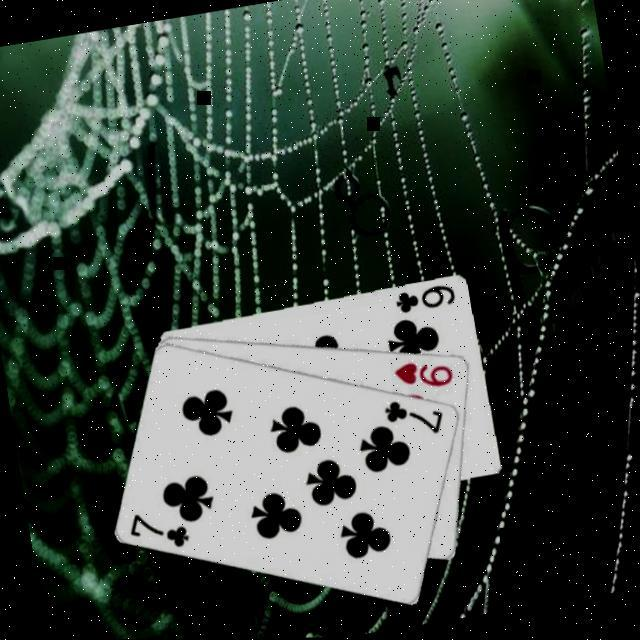6C: (390, 279, 460, 317)
7C: (123, 502, 193, 556), (380, 389, 449, 443)
9H: (389, 352, 457, 395)
